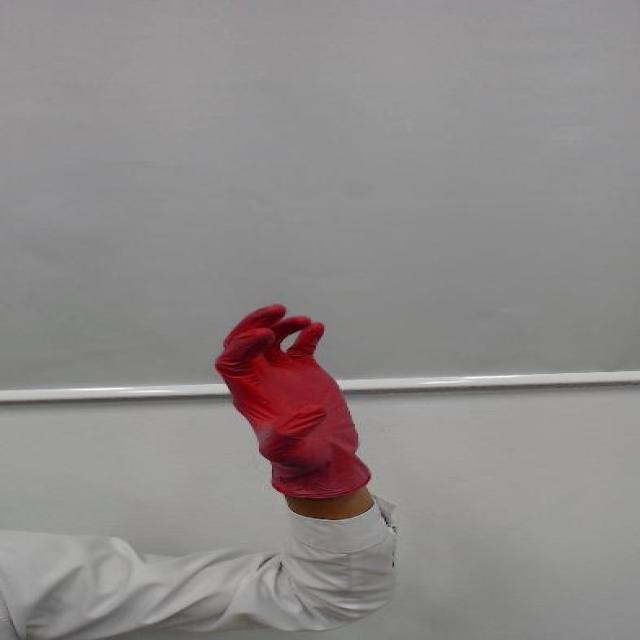gloved_hand: (199, 293, 368, 462)
